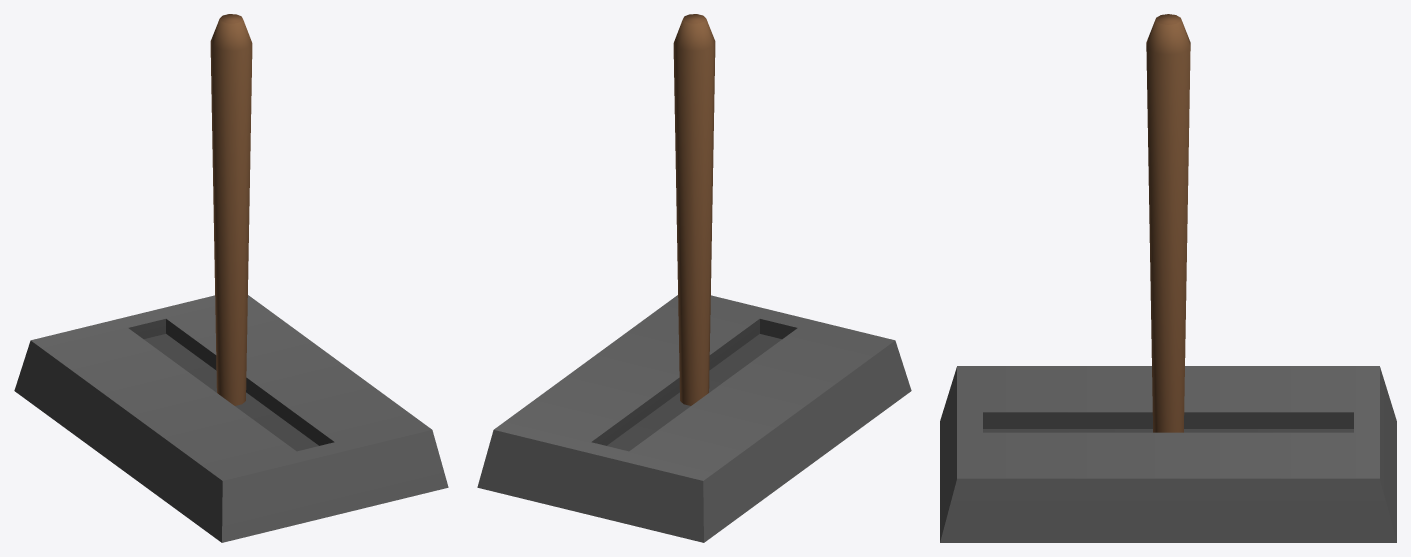
The model's file is Big_Control_Stick_3.fbx.
The picture shows the model from 3 angles, left to right: view 1: azimuth 30°, elevation 25°; view 2: azimuth 150°, elevation 25°; view 3: azimuth 270°, elevation 25°; orthographic projection. The views are drawn at different scales.
Parts seen in each view (by area): view 1: Big_Control_Stick_3, Big_Control_Stick_3.001; view 2: Big_Control_Stick_3, Big_Control_Stick_3.001; view 3: Big_Control_Stick_3, Big_Control_Stick_3.001.
Boxes of the visible parts, x1,y1,x2,y2 form: Big_Control_Stick_3: [14, 295, 448, 542]; Big_Control_Stick_3.001: [210, 14, 252, 405]; Big_Control_Stick_3: [477, 295, 911, 542]; Big_Control_Stick_3.001: [673, 14, 715, 405]; Big_Control_Stick_3: [940, 366, 1396, 542]; Big_Control_Stick_3.001: [1146, 14, 1190, 432].
Bounding box in the file's own units: 27.35 × 48.47 × 43.38.
1 material, 1 textured.
